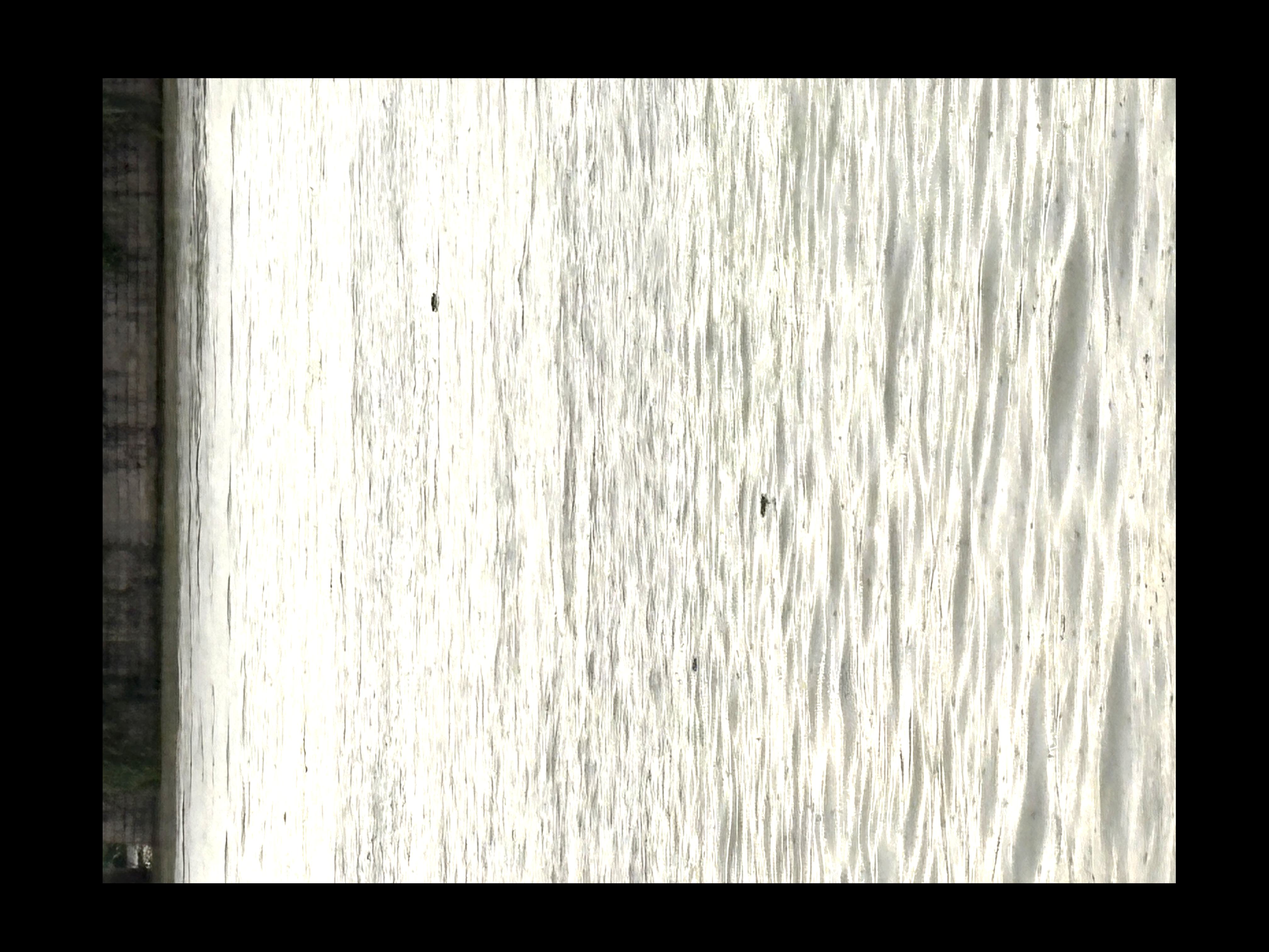Natural wastes: (791, 474, 806, 499), (460, 273, 475, 293), (719, 639, 736, 655)
